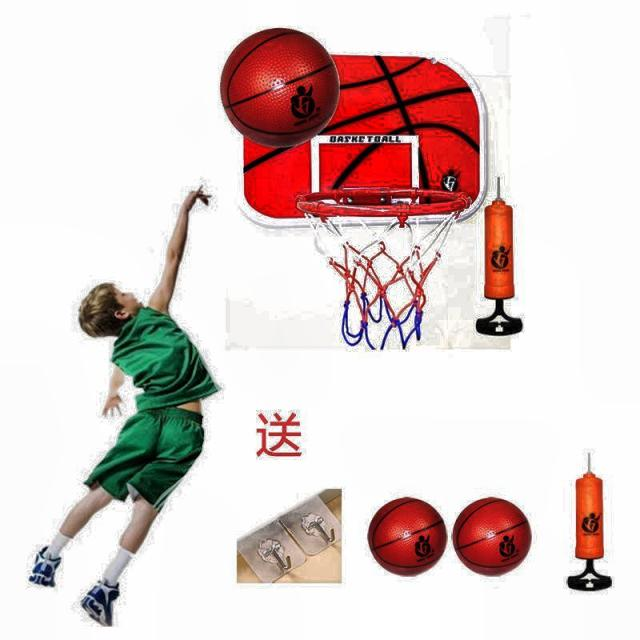board: (220, 26, 340, 147), (367, 495, 448, 578), (454, 495, 532, 577)
rim: (299, 191, 471, 349)
